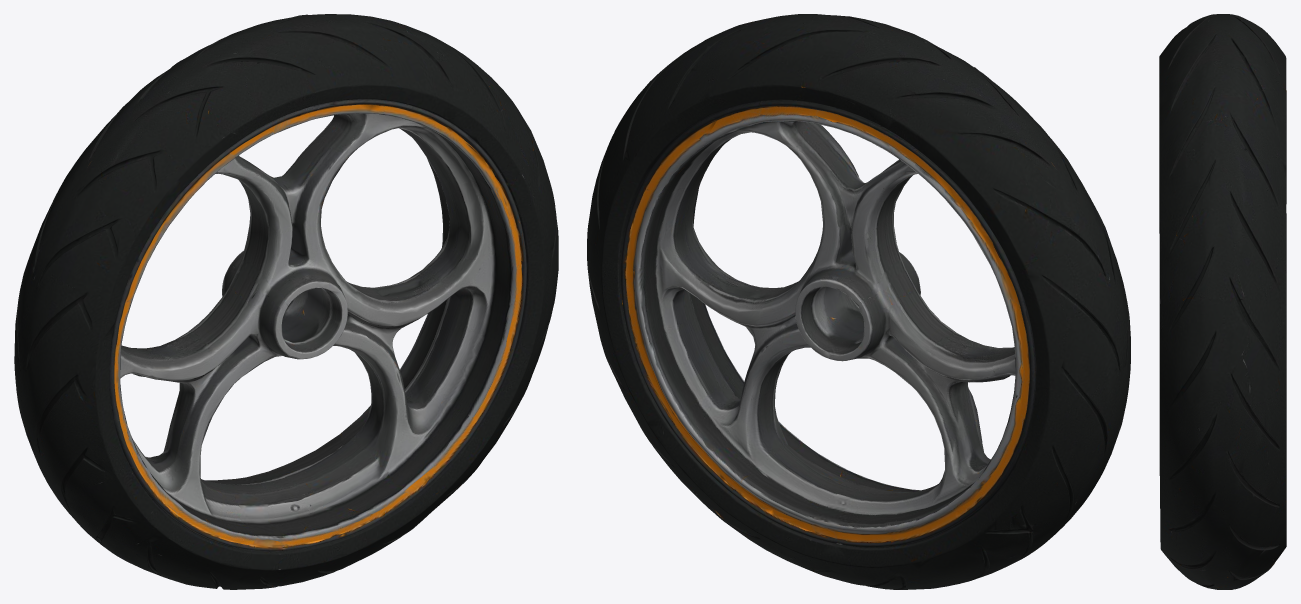
The model's file is Meshy_AI_Midnight_Velocity_20261118_texture_41459tris.glb.
3 renders of one model, left to right at view 1: azimuth 30°, elevation 25°; view 2: azimuth 150°, elevation 25°; view 3: azimuth 270°, elevation 25°, orthographic. The views are drawn at different scales.
Visible parts, largest first — view 1: Mesh_0; view 2: Mesh_0; view 3: Mesh_0.
Part boxes in pixels (x1,y1,x2,y2): Mesh_0: [14, 14, 558, 589]; Mesh_0: [587, 14, 1130, 589]; Mesh_0: [1159, 14, 1286, 589].
Bounding box in the file's own units: 190 × 190 × 42.14.
1 material, 1 textured.
